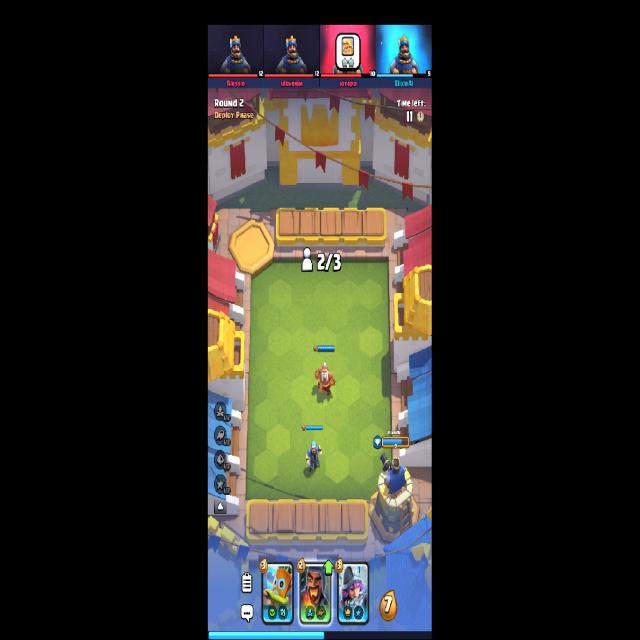card_dart_goblin: (262, 562, 294, 624)
card_musketeer: (337, 560, 369, 624)
card_wizard: (300, 561, 332, 624)
monk: (314, 362, 336, 395)
wizard: (306, 442, 322, 472)
